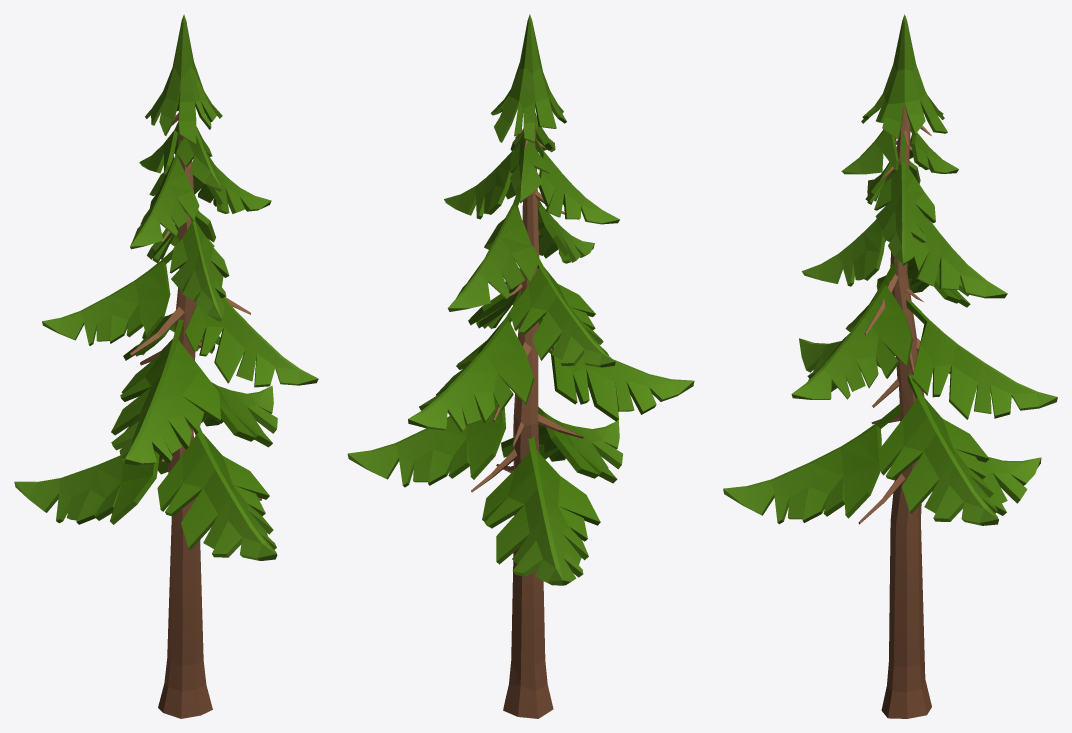
The model's file is Tree_Pine_02.fbx.
3 renders of one model, left to right at view 1: azimuth 30°, elevation 25°; view 2: azimuth 150°, elevation 25°; view 3: azimuth 270°, elevation 25°, orthographic.
Parts seen in each view (by area): view 1: Tree_Pine_02; view 2: Tree_Pine_02; view 3: Tree_Pine_02.
Boxes of the visible parts, box(x1,y1,x2,y2) form: Tree_Pine_02: box(14, 14, 318, 718); Tree_Pine_02: box(347, 14, 694, 718); Tree_Pine_02: box(723, 14, 1057, 718).
Size of the model in its own units: 481 by 1281 by 559.
